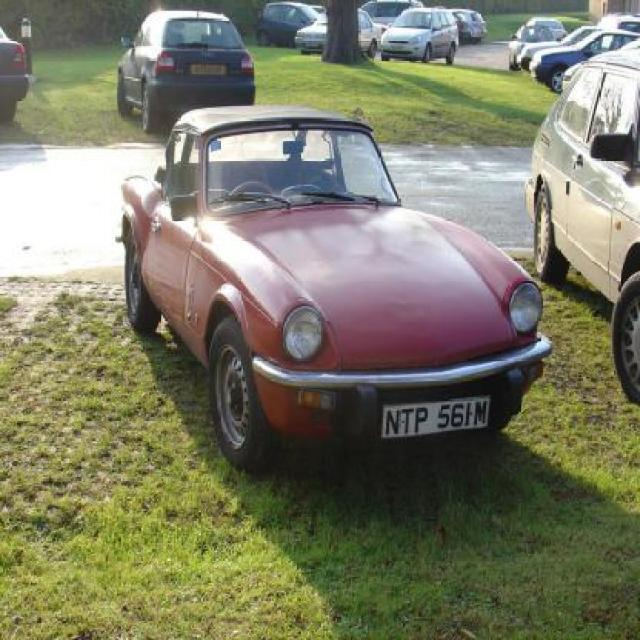License-Plates: (378, 398, 491, 441)
